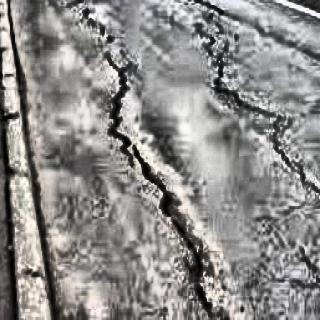crack: (193, 0, 320, 190), (117, 129, 212, 320), (68, 1, 141, 138)
